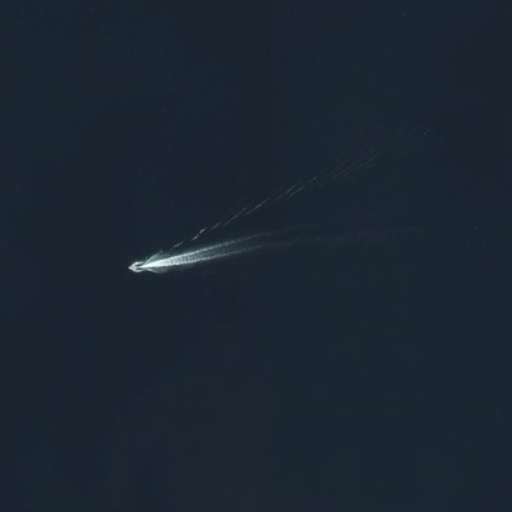ship: (126, 259, 153, 275)
